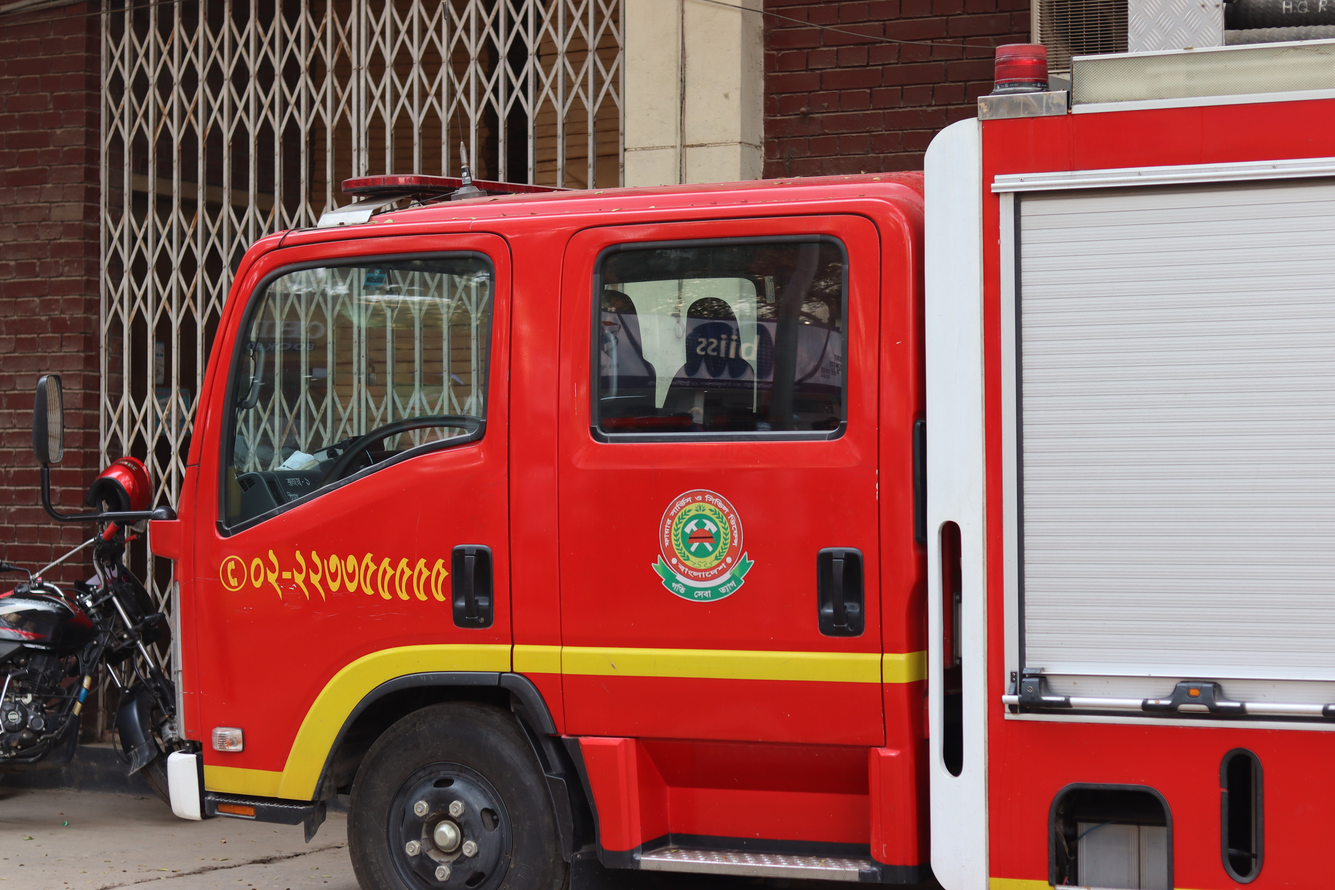Fire truck: (125, 32, 1335, 890)
